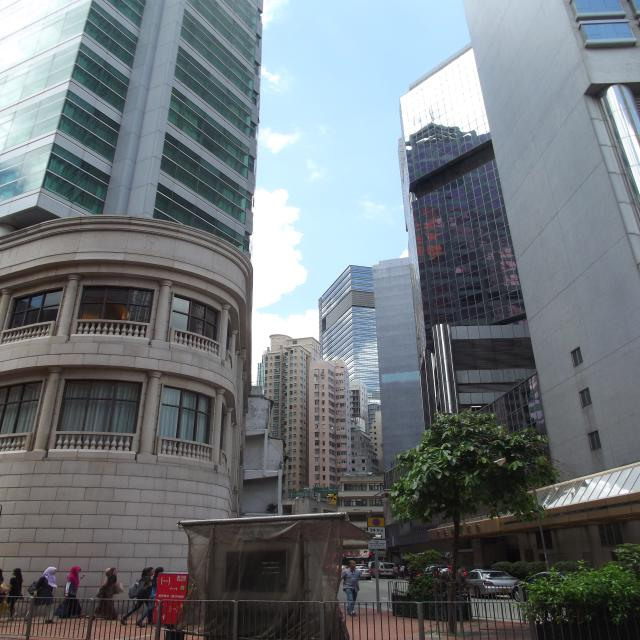body: (84, 566, 126, 621), (119, 567, 156, 625), (22, 566, 58, 625), (135, 566, 164, 628), (336, 558, 366, 616), (58, 566, 86, 619), (5, 567, 24, 621), (0, 568, 8, 620), (452, 565, 464, 582), (391, 563, 399, 580), (399, 563, 406, 580)
